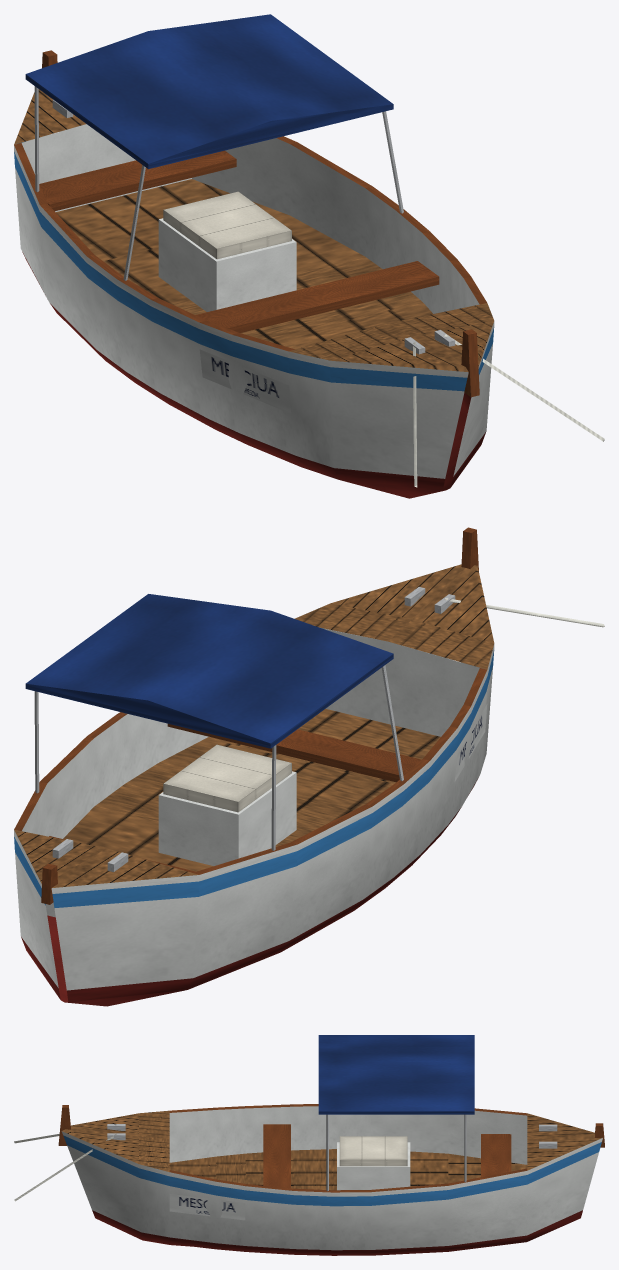
The model's file is SM_Morin_Barca_Gozzo_FasciaAzzurra_Prua_LOD1.fbx.
3 views of the same model, one above another, from view 1: azimuth 30°, elevation 25°; view 2: azimuth 150°, elevation 25°; view 3: azimuth 270°, elevation 25° (orthographic). The views are drawn at different scales.
Parts seen in each view (by area): view 1: SM_Morin_Barca_Gozzo_FasciaAzzurra_Prua_LOD1; view 2: SM_Morin_Barca_Gozzo_FasciaAzzurra_Prua_LOD1; view 3: SM_Morin_Barca_Gozzo_FasciaAzzurra_Prua_LOD1.
Boxes of the visible parts, left/top/right/bottom form: SM_Morin_Barca_Gozzo_FasciaAzzurra_Prua_LOD1: left=14, top=14, right=604, bottom=498; SM_Morin_Barca_Gozzo_FasciaAzzurra_Prua_LOD1: left=14, top=527, right=604, bottom=1006; SM_Morin_Barca_Gozzo_FasciaAzzurra_Prua_LOD1: left=14, top=1035, right=604, bottom=1255.
Size of the model in its own units: 229 by 644 by 222.
Materials: 1 (1 with a texture image).
